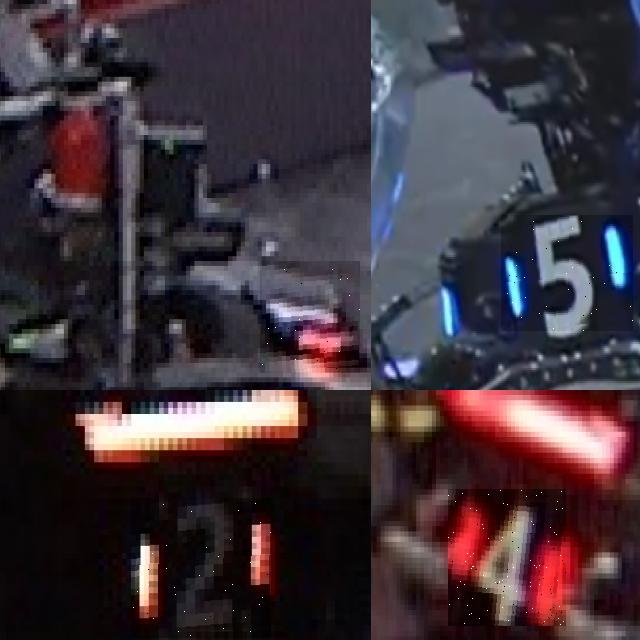B5: (501, 215, 633, 331)
R1: (260, 261, 360, 373)
R2: (131, 498, 271, 638)
R4: (448, 489, 566, 626)
